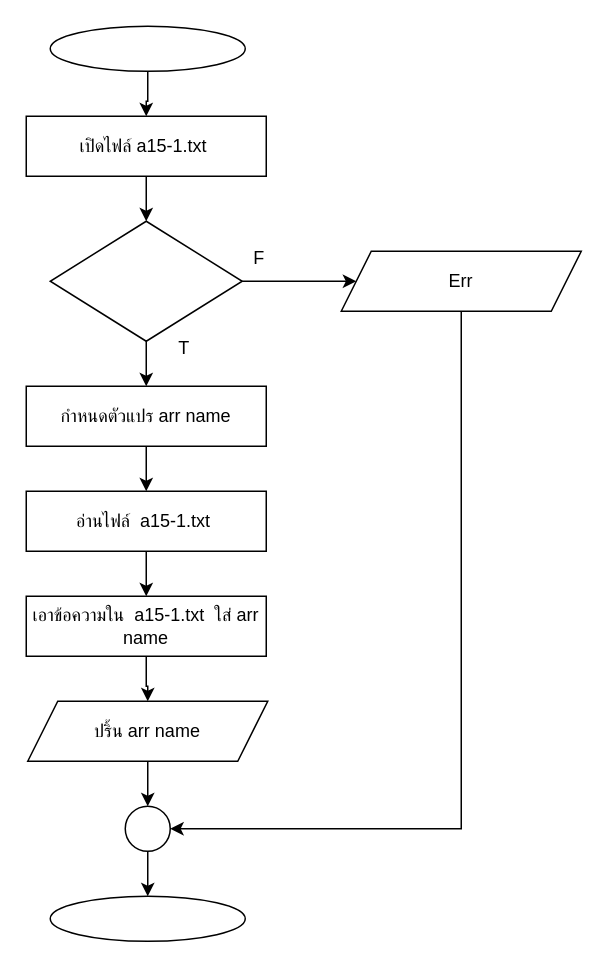
The diagram is 608 pixels wide and 968 high, and some of its shapes have lost their labels. Each missing label, with the centre of its shape:
"End" goes at pixel 147 918.
"Start" goes at pixel 147 48.
"เปิดได้หรือไม่" goes at pixel 145 280.
